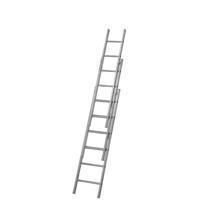Ladder: (55, 16, 149, 206)
